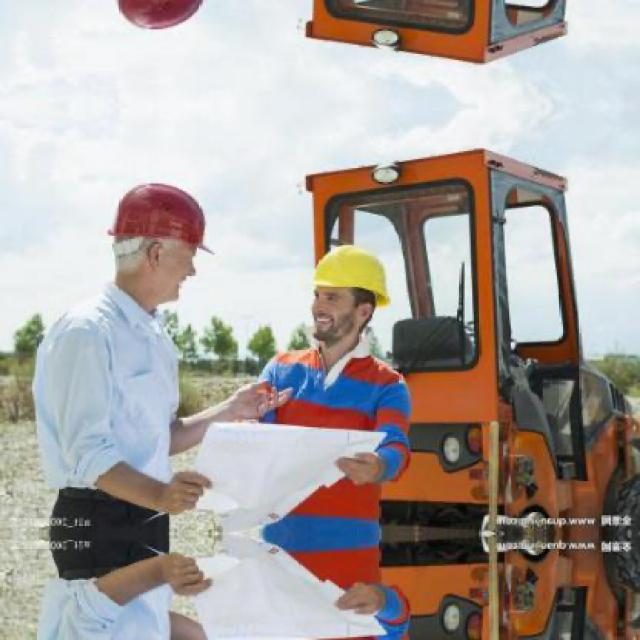helmet: (96, 164, 222, 308), (298, 230, 397, 350), (94, 0, 221, 51)
